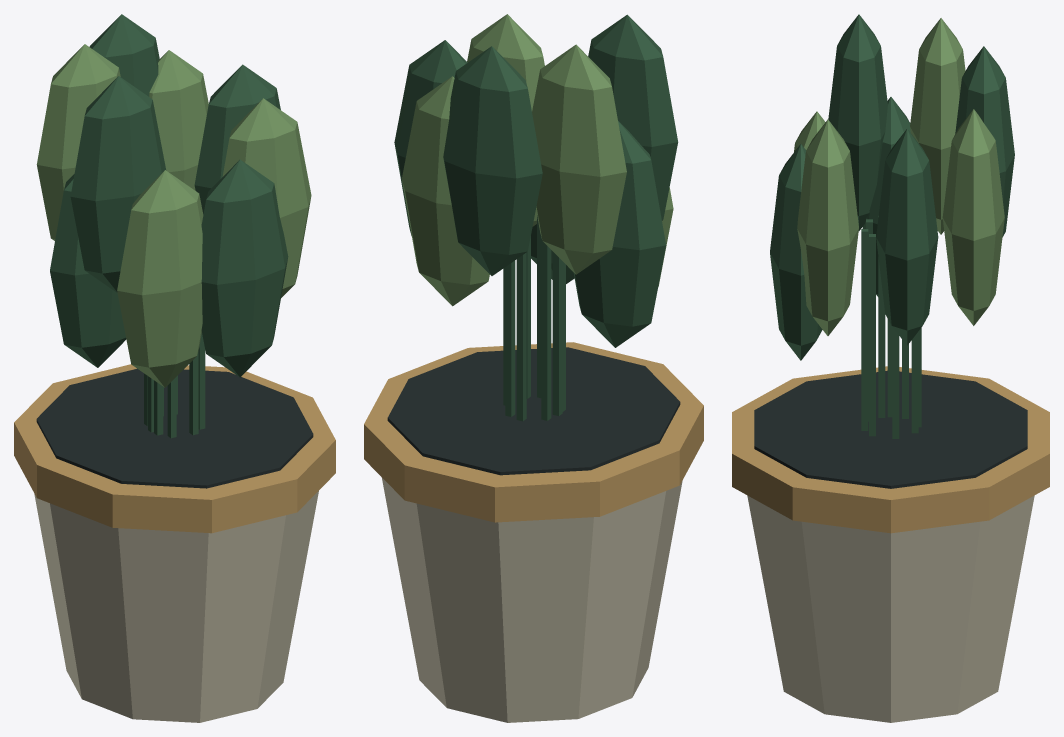
File: LP_NaturalHistory_Plant.fbx
3 views of the same model, side by side, from view 1: azimuth 30°, elevation 25°; view 2: azimuth 150°, elevation 25°; view 3: azimuth 270°, elevation 25° (orthographic). The views are drawn at different scales.
Parts seen in each view (by area): view 1: M_Central_Limestone, LeafForest, LeafSage, Charcoal, AgedBrass; view 2: M_Central_Limestone, LeafForest, LeafSage, Charcoal, AgedBrass; view 3: M_Central_Limestone, LeafForest, LeafSage, Charcoal, AgedBrass.
Part boxes in pixels (x1,y1,x2,y2): M_Central_Limestone: (34,491,318,722); LeafForest: (50,14,288,438); LeafSage: (36,44,311,387); Charcoal: (36,368,313,488); AgedBrass: (14,364,335,533); M_Central_Limestone: (381,477,682,722); LeafForest: (394,14,678,421); LeafSage: (402,14,673,306); Charcoal: (387,347,680,475); AgedBrass: (364,342,703,522); M_Central_Limestone: (747,495,1034,722); LeafForest: (770,14,1014,438); LeafSage: (794,18,1004,335); Charcoal: (754,370,1027,488); AgedBrass: (732,366,1049,533).
Size of the model in its own units: 55 by 120 by 55.
